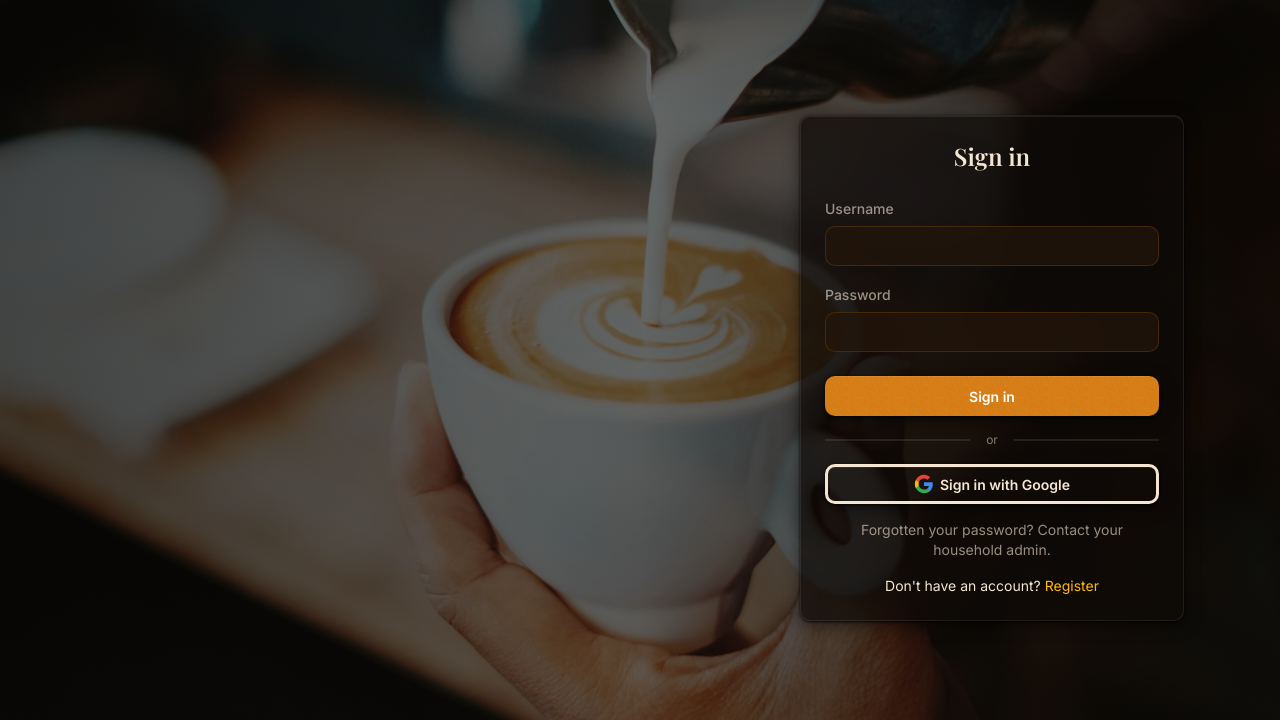
Scenario: Login page › shows rate limit message on 429 response
The image size is (1280, 720).
Type "testuser" into the field labelled "Username". click: (992, 246)
box: [825,226,1159,266]
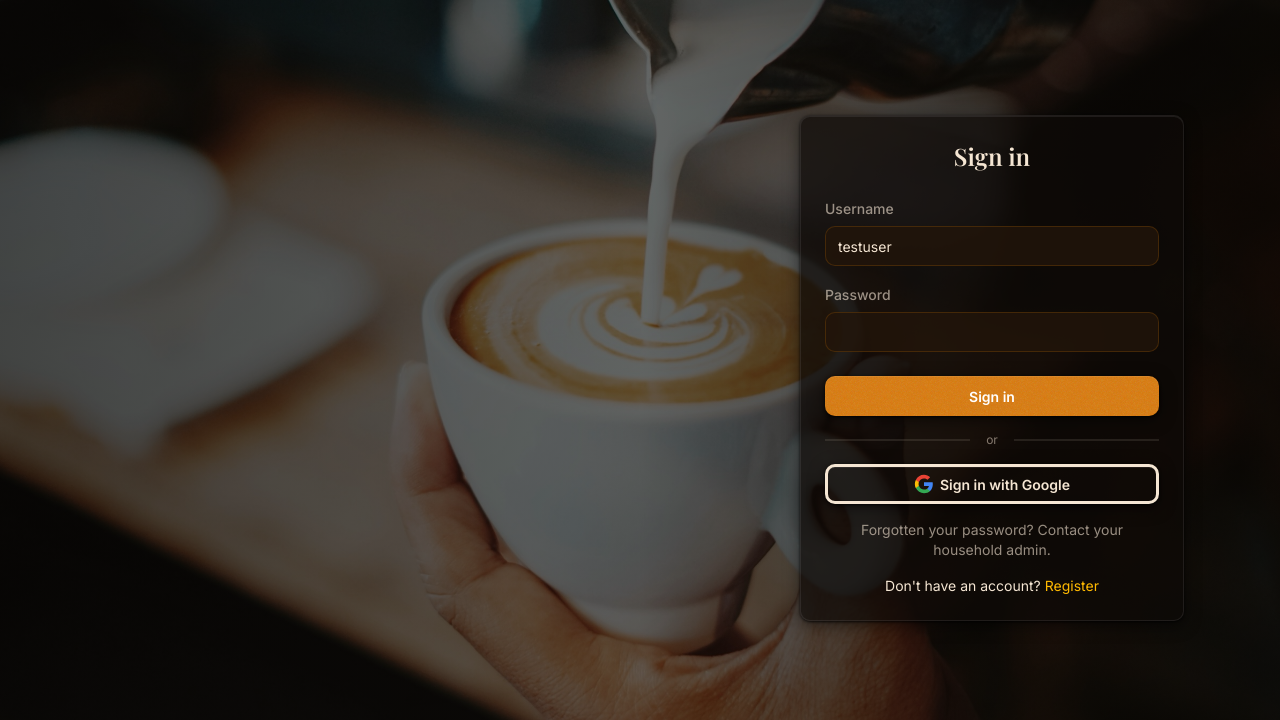
Type "testpassword" into the password field labelled "Password". click: (992, 332)
box: [825,312,1159,352]
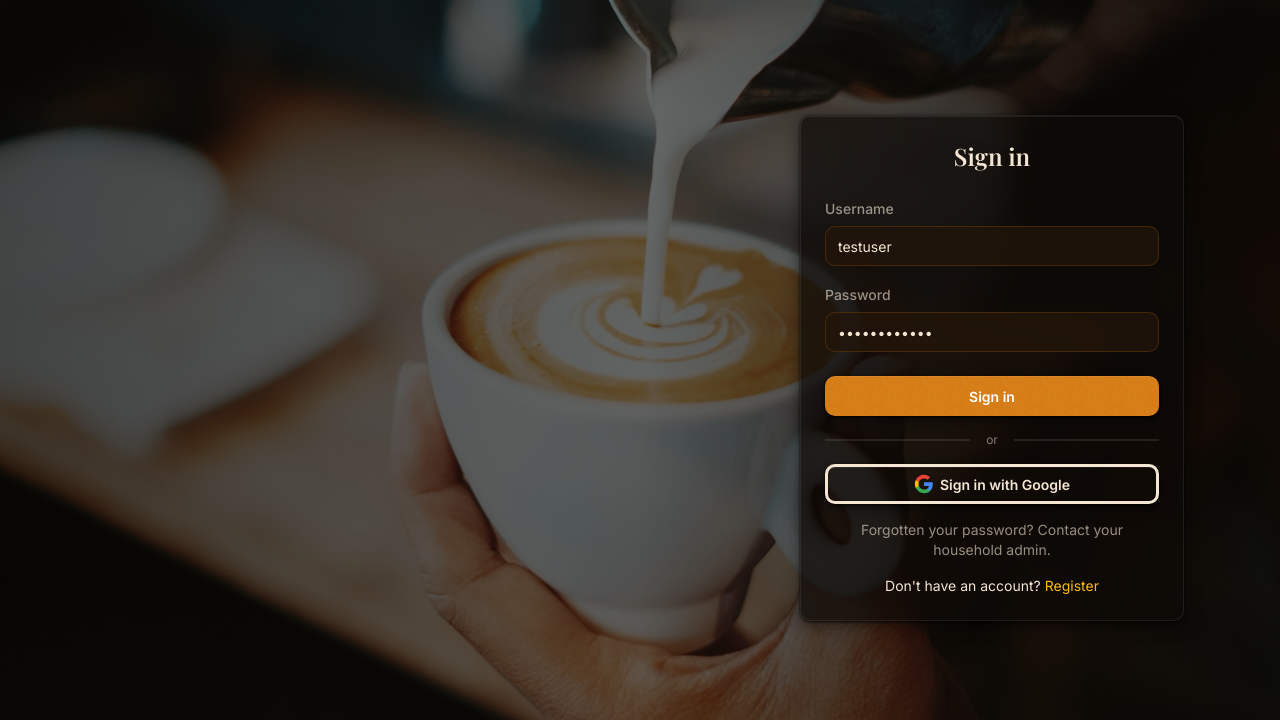
Click the button "Sign in". click: (992, 396)
box: [825,376,1159,416]
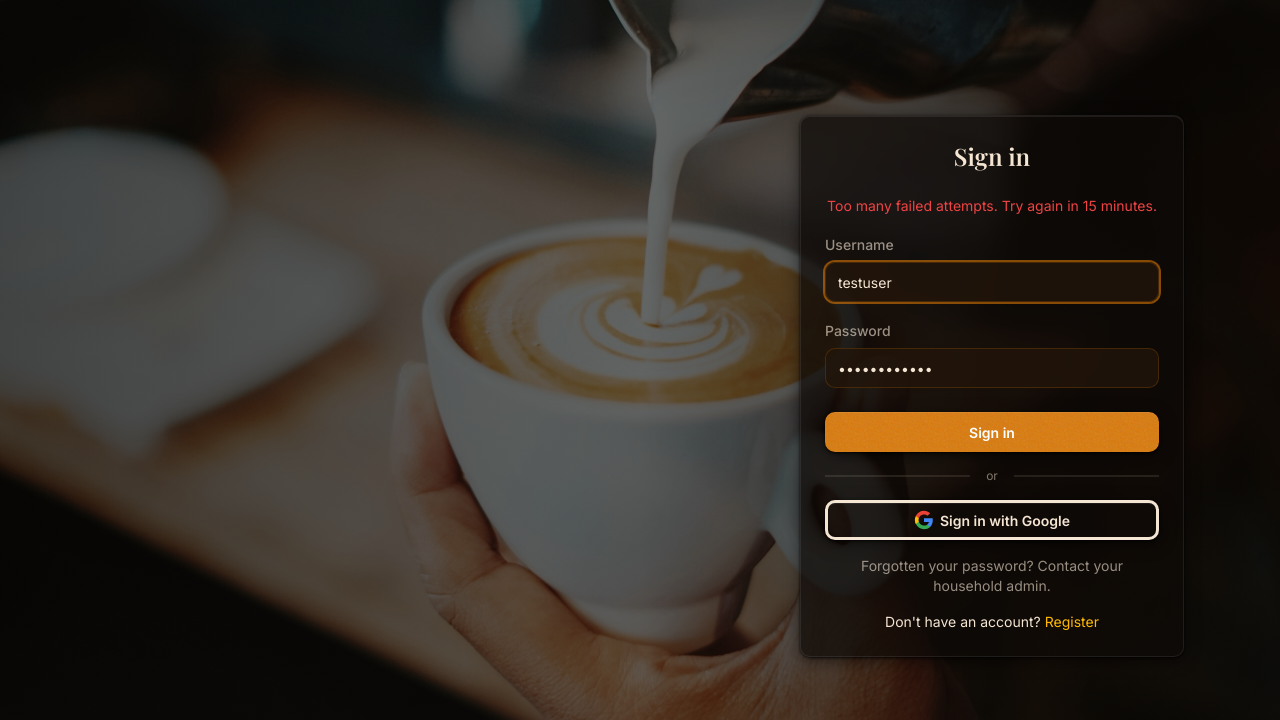
Expected: the message shows "Too many failed attempts", [827,197,1157,214]
